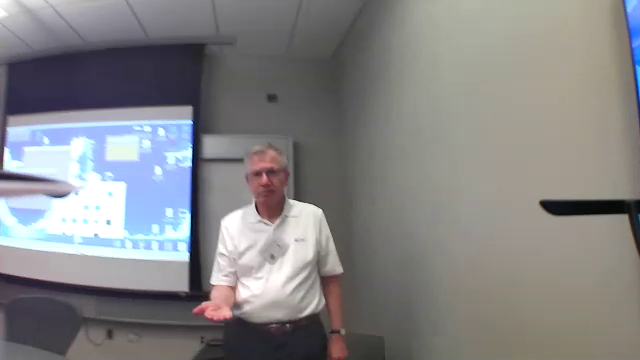land: (186, 295, 239, 325)
